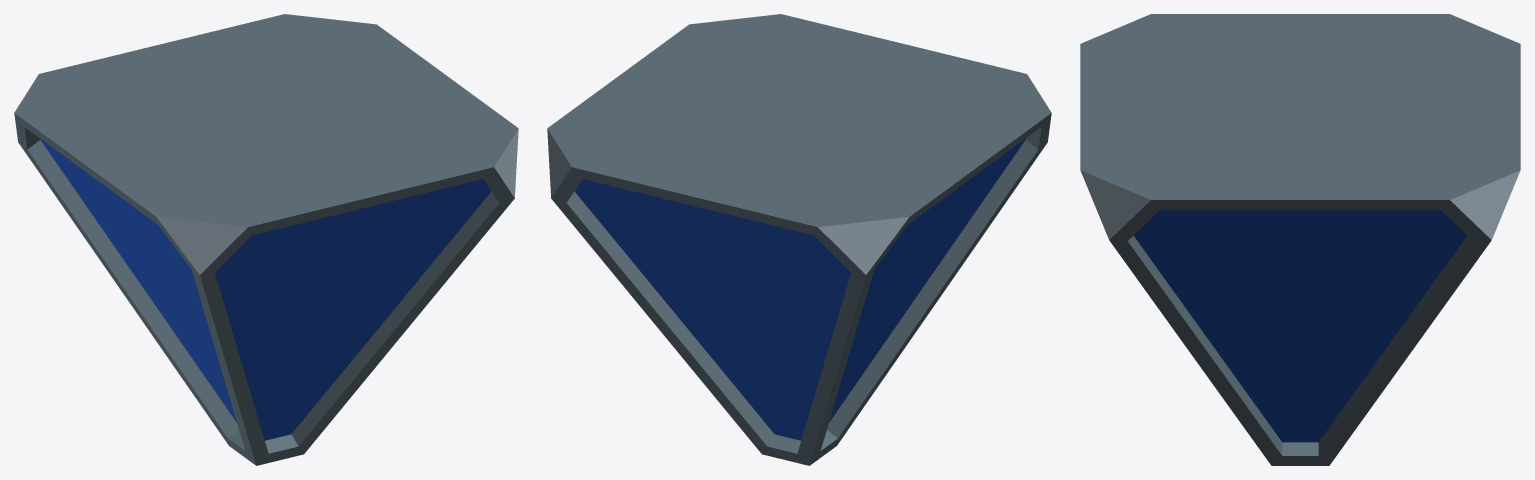
File: EnnemiV2.fbx
The picture shows the model from 3 angles, left to right: view 1: azimuth 30°, elevation 25°; view 2: azimuth 150°, elevation 25°; view 3: azimuth 270°, elevation 25°; orthographic projection. The views are drawn at different scales.
Visible parts, largest first — view 1: Cube; view 2: Cube; view 3: Cube.
Part boxes in pixels (<box>): Cube: <box>14,14,518,465</box>; Cube: <box>547,14,1051,465</box>; Cube: <box>1080,14,1520,465</box>.
Size of the model in its own units: 2000 by 1738 by 2000.
